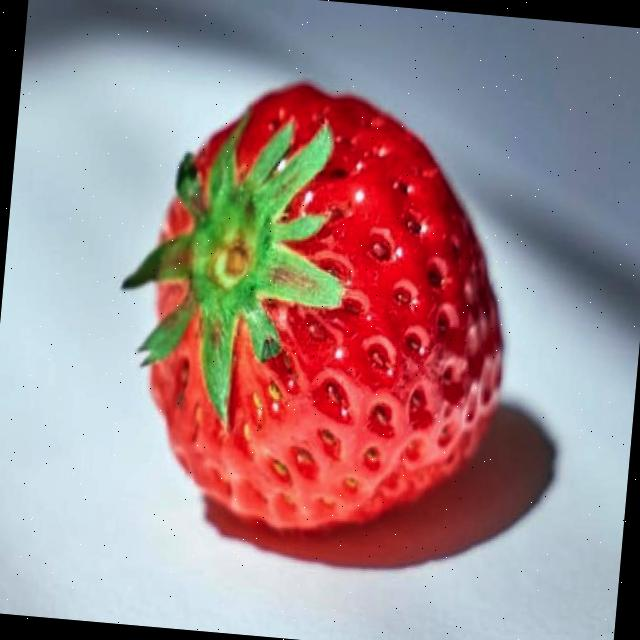strawberry: (137, 69, 524, 548)
